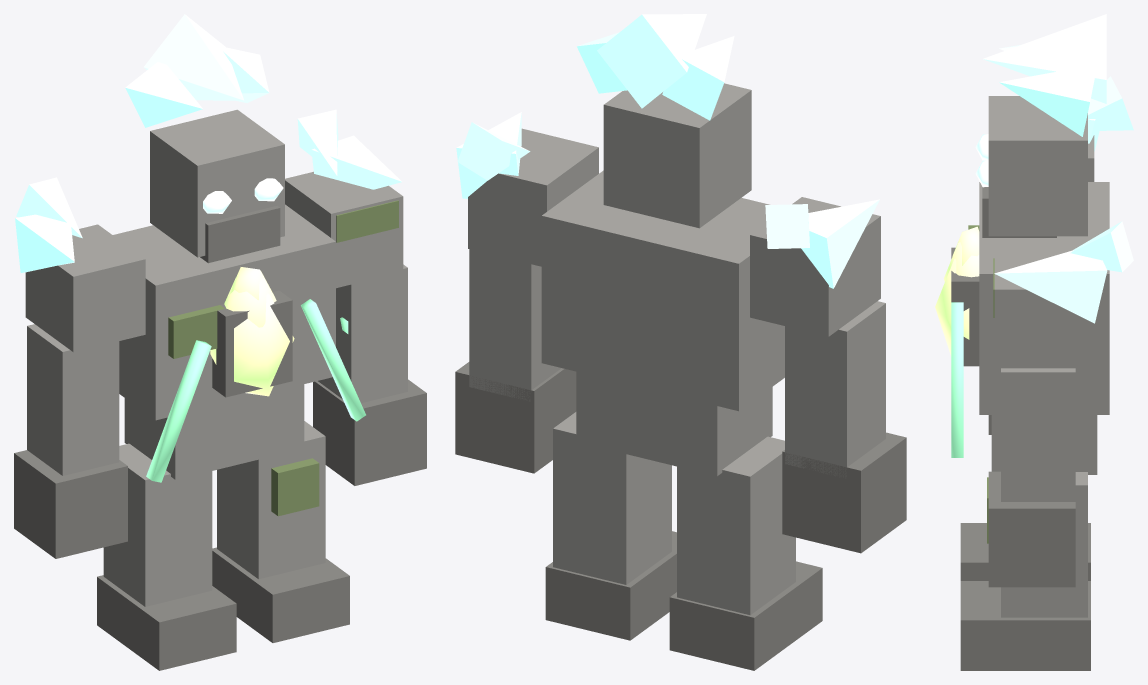
Rendered from stone_revenant_bitgem.glb.
3 renders of one model, left to right at view 1: azimuth 30°, elevation 25°; view 2: azimuth 150°, elevation 25°; view 3: azimuth 270°, elevation 25°, orthographic. The views are drawn at different scales.
Visible parts, largest first — view 1: revenant; view 2: revenant; view 3: revenant.
Boxes of the visible parts, x1,y1,x2,y2 form: revenant: [14, 14, 426, 670]; revenant: [455, 14, 906, 670]; revenant: [935, 14, 1133, 670].
Size of the model in its own units: 1.44 by 2.16 by 0.6399.
